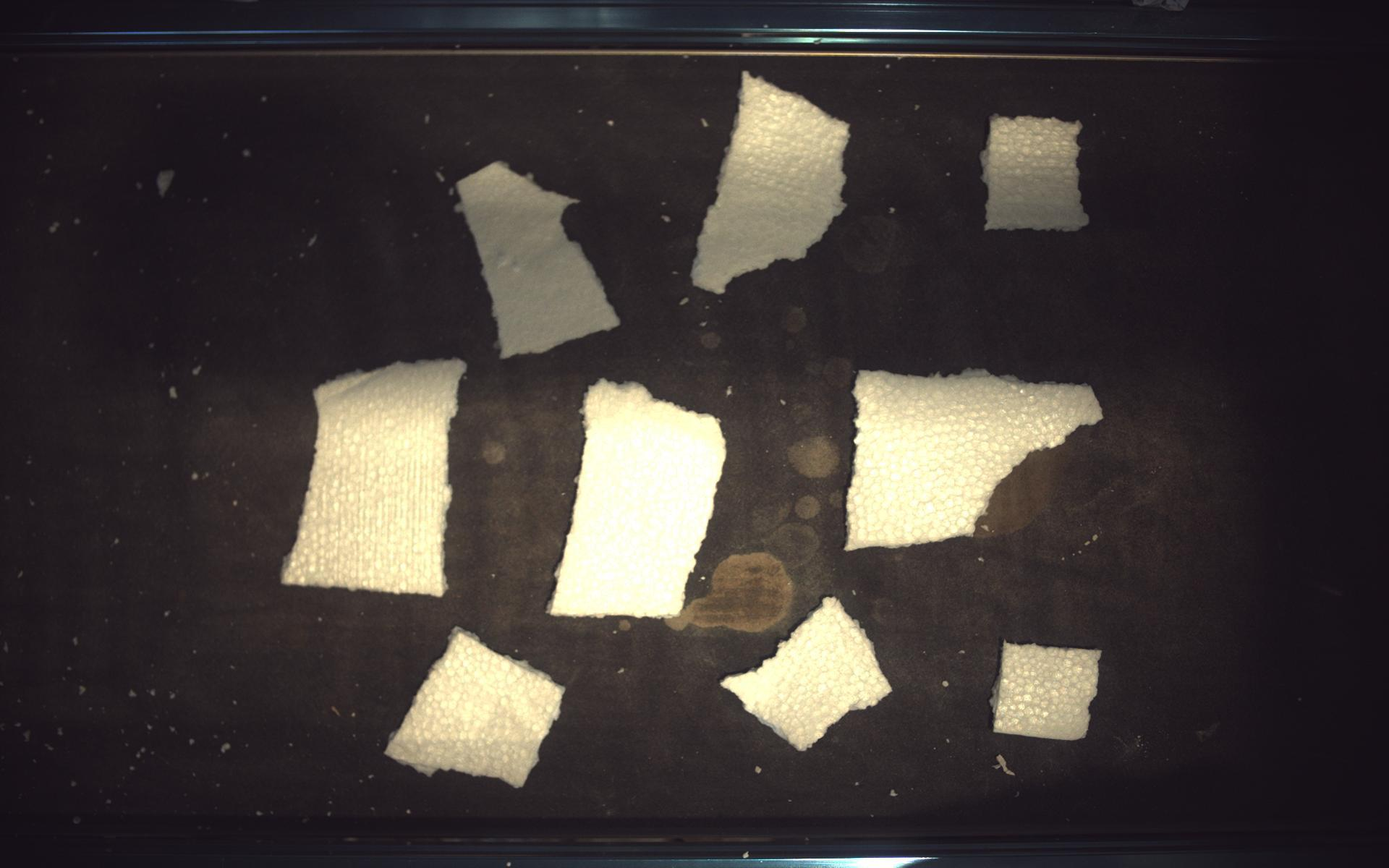foam: (848, 370, 1104, 551), (281, 359, 465, 597), (550, 380, 726, 618), (692, 70, 851, 293), (456, 161, 621, 357), (385, 628, 564, 789), (723, 597, 893, 752), (982, 114, 1092, 230), (993, 643, 1103, 741)
